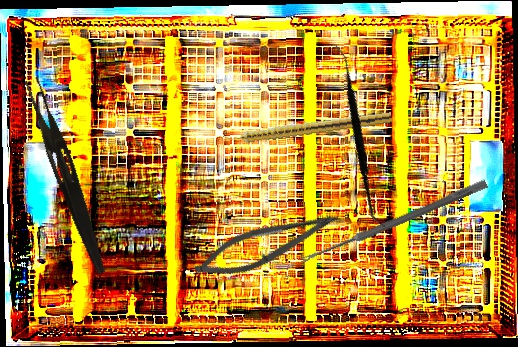Dressing Forceps: (17, 76, 116, 276)
Handpiece: (222, 108, 393, 147)
Micro Scissor: (187, 192, 347, 293)
Spatula Surgical: (269, 44, 451, 229)
Surgical Spoon: (299, 178, 488, 266)
